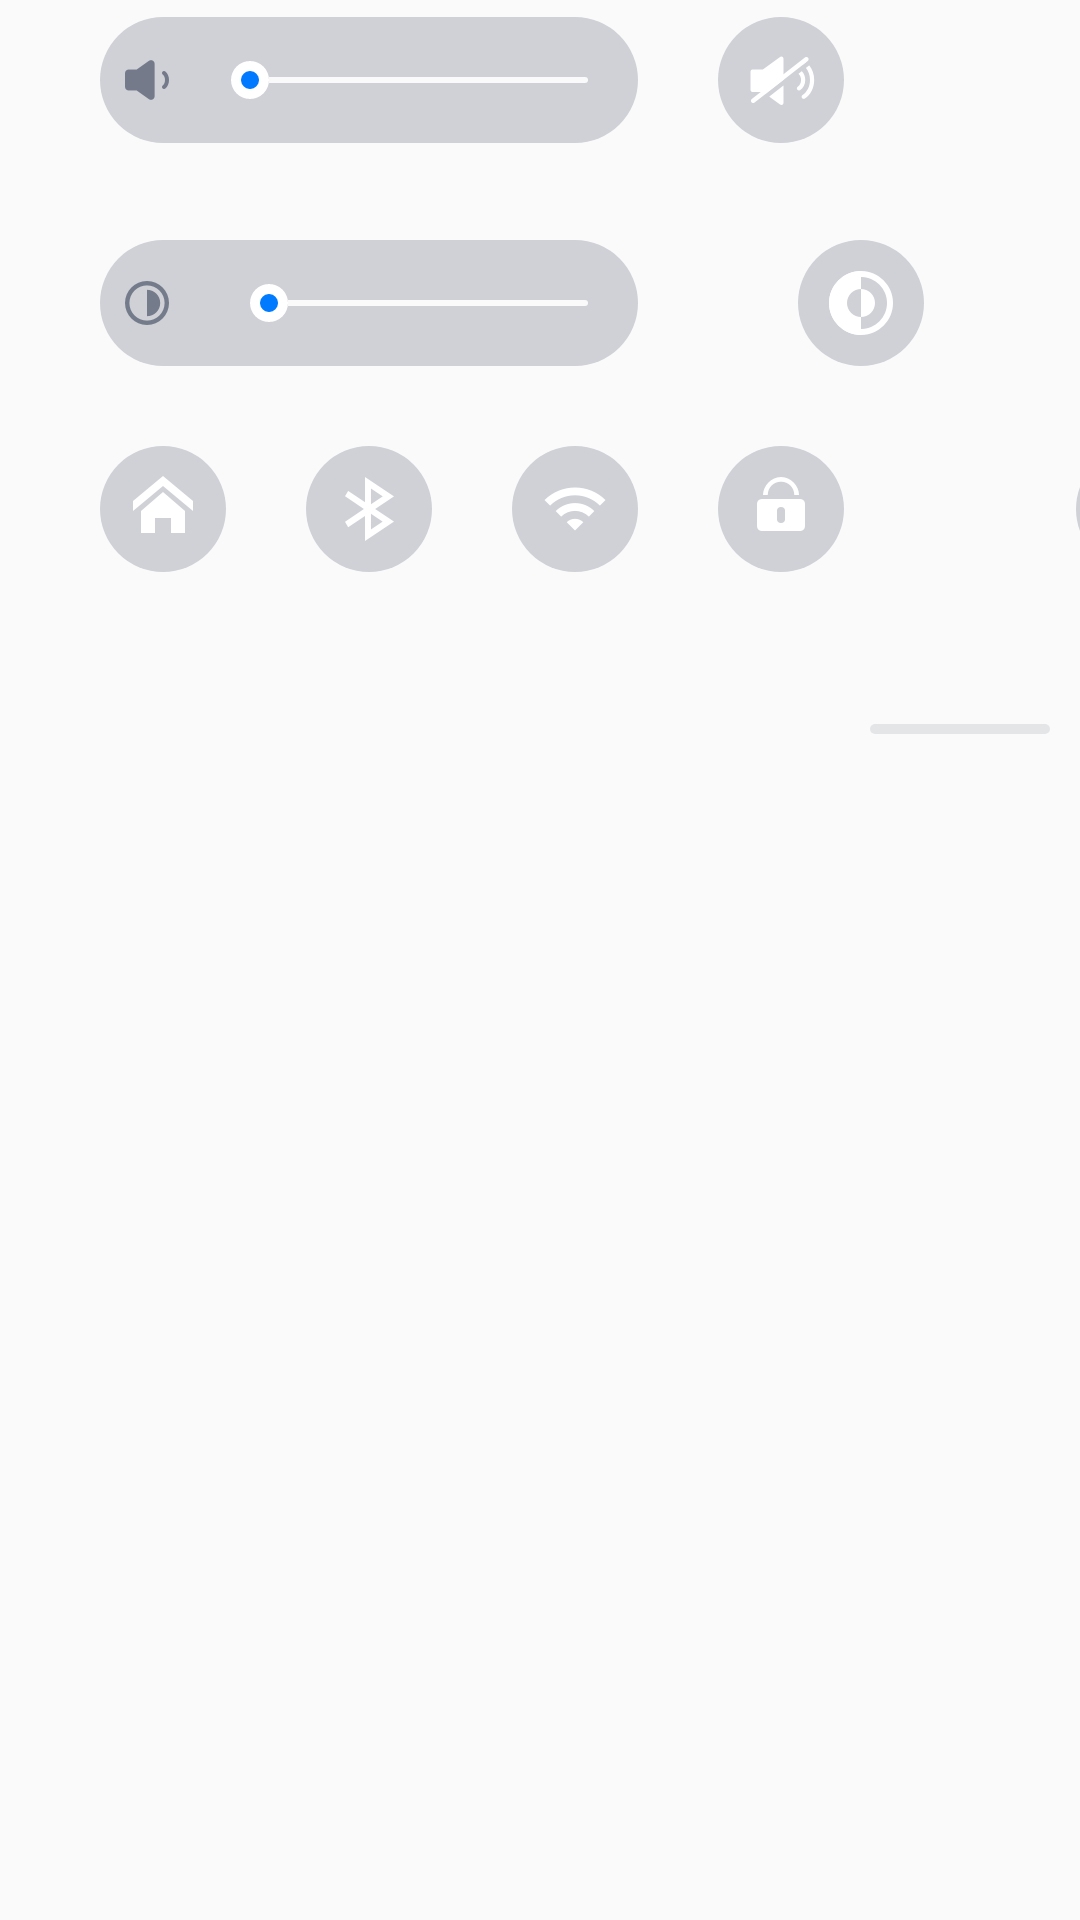

Where icons sit on this 1080 × 1920 app screen, as [left=x1, top=y1, right=x2, bottom=y2]:
brightness: [left=125, top=281, right=169, bottom=325]
imgbtn brightness: [left=798, top=240, right=924, bottom=366]
imgbtn home: [left=100, top=446, right=226, bottom=572]
imgbtn lock: [left=718, top=446, right=844, bottom=572]
imgbtn media mute: [left=718, top=17, right=844, bottom=143]
imgbtn wifi: [left=512, top=446, right=638, bottom=572]
voice: [left=125, top=60, right=169, bottom=100]
